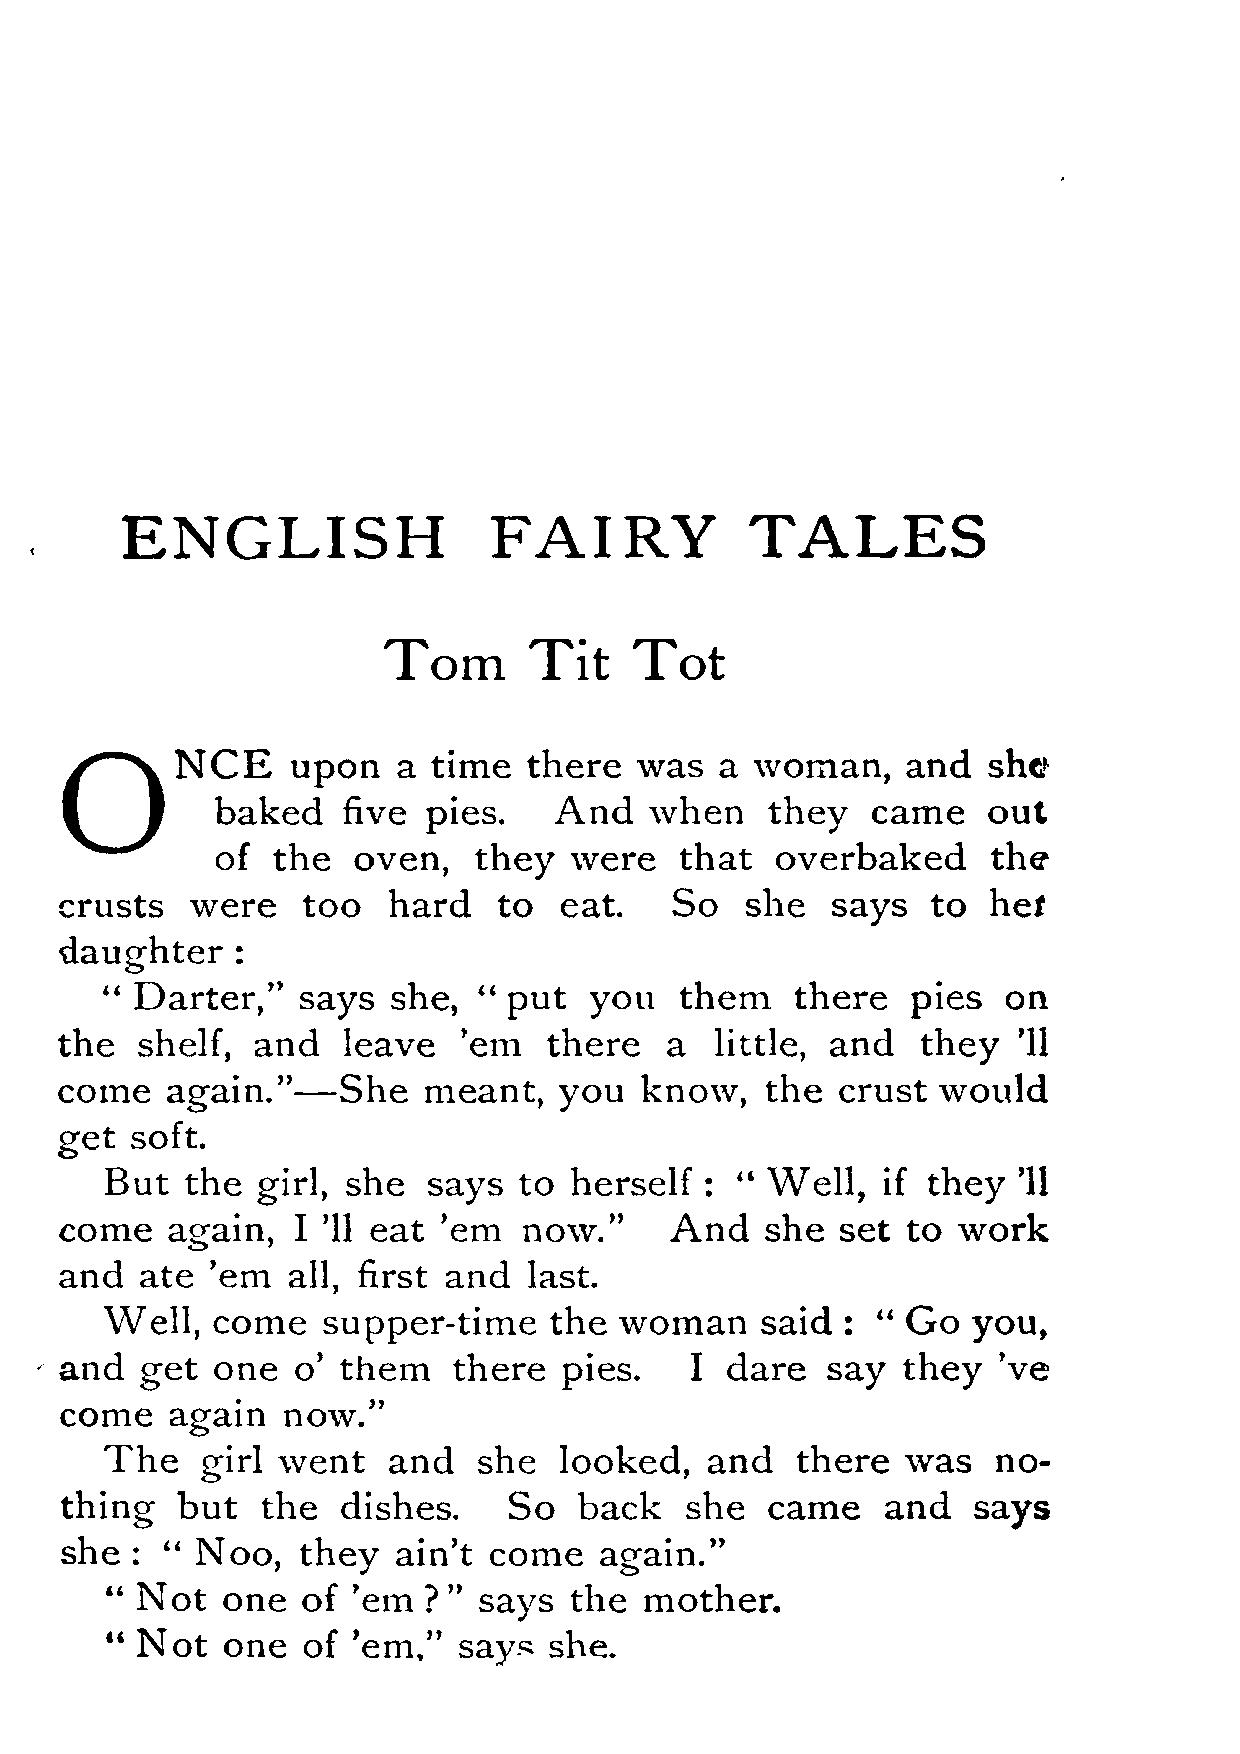chapter: (115, 506, 988, 564), (381, 631, 726, 684)
content: (52, 742, 1053, 1668)
